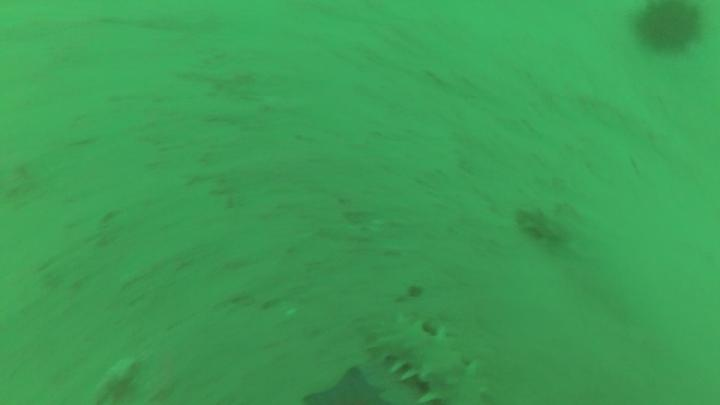echinus: (637, 5, 695, 51)
holothurian: (373, 325, 486, 405), (522, 207, 562, 248)
